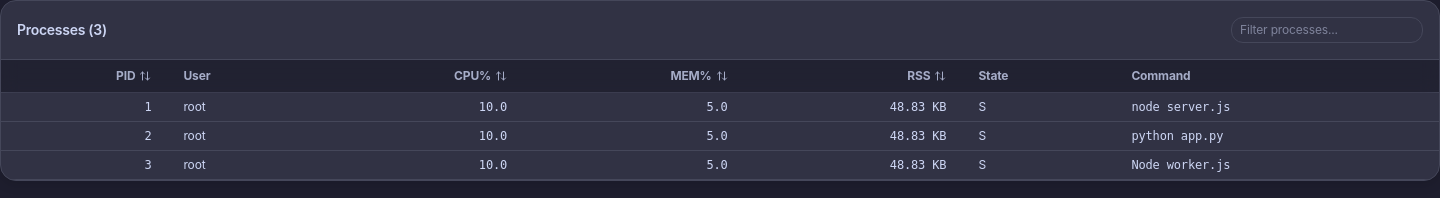
Test: ProcessTable › filters processes by command (case-insensitive)
This screenshot has width=1440, height=198.
Type "node" into the field with placeholder "Filter processes..." at (1327, 30), box x1=1231 y1=17 x2=1423 y2=43
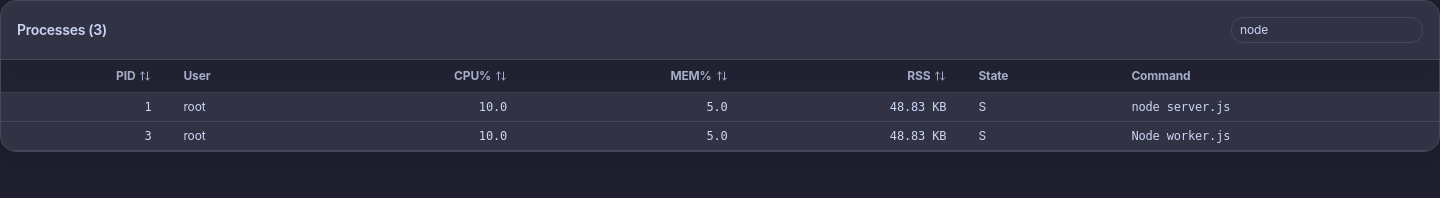
expect the text "node server.js" is shown: met, box x1=1115 y1=92 x2=1439 y2=122
expect the text "python app.py" is gone: met
